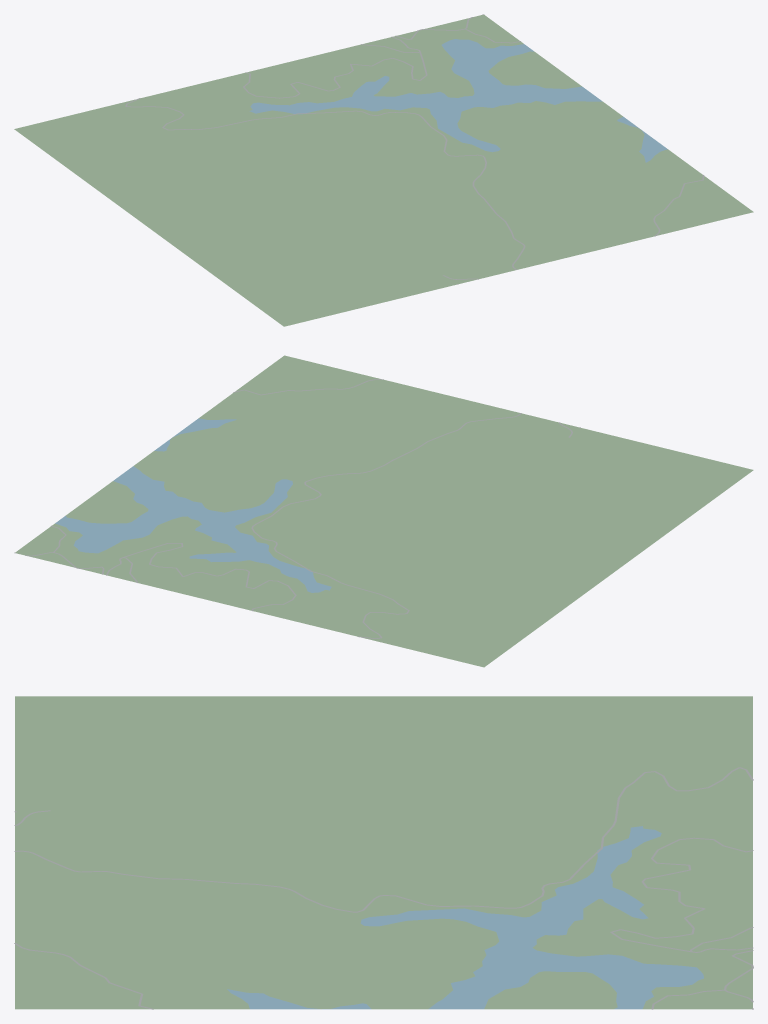
The model's file is -17_16-known-fine.glb.
3 views of the same model, one above another, from view 1: azimuth 30°, elevation 25°; view 2: azimuth 150°, elevation 25°; view 3: azimuth 270°, elevation 25° (orthographic). The views are drawn at different scales.
Bounding box in the file's own units: 1001 × 0.1 × 998.
